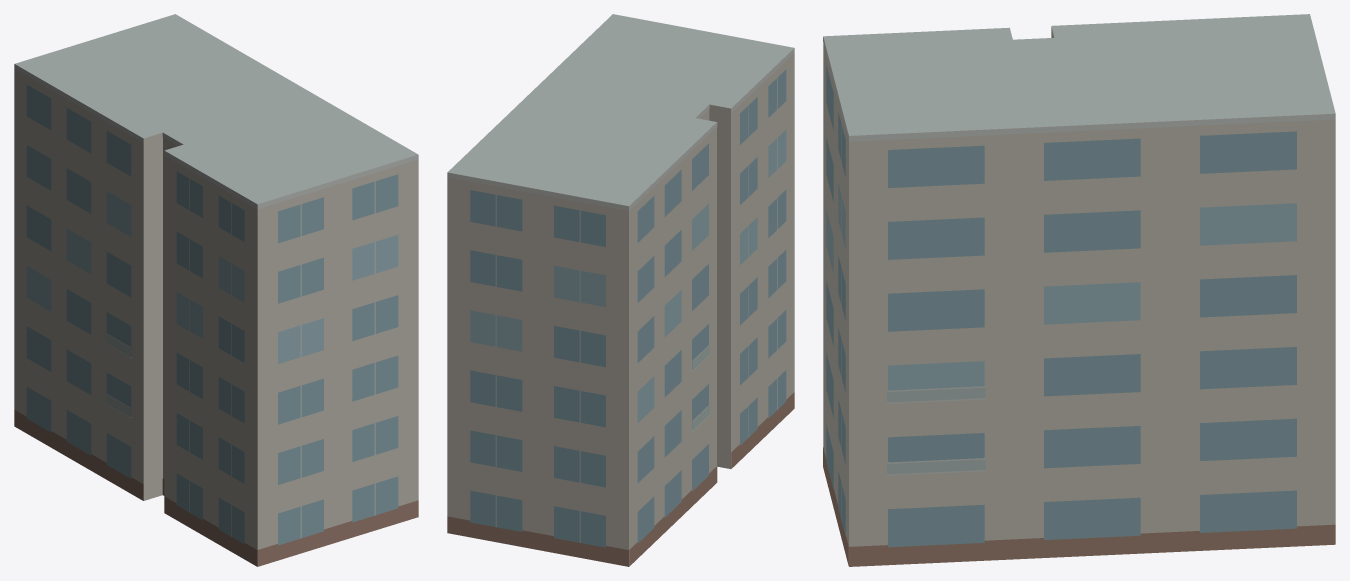
The model's file is survey-upis-32652880.glb.
3 renders of one model, left to right at view 1: azimuth 30°, elevation 25°; view 2: azimuth 150°, elevation 25°; view 3: azimuth 270°, elevation 25°, orthographic. The views are drawn at different scales.
Visible parts, largest first — view 1: survey-upis-32652880.tmp; view 2: survey-upis-32652880.tmp; view 3: survey-upis-32652880.tmp.
Boxes of the visible parts, bbox=[...] form: survey-upis-32652880.tmp: bbox=[14, 14, 418, 566]; survey-upis-32652880.tmp: bbox=[447, 14, 794, 566]; survey-upis-32652880.tmp: bbox=[823, 14, 1335, 566].
Bounding box in the file's own units: 10.93 × 18 × 19.41.
